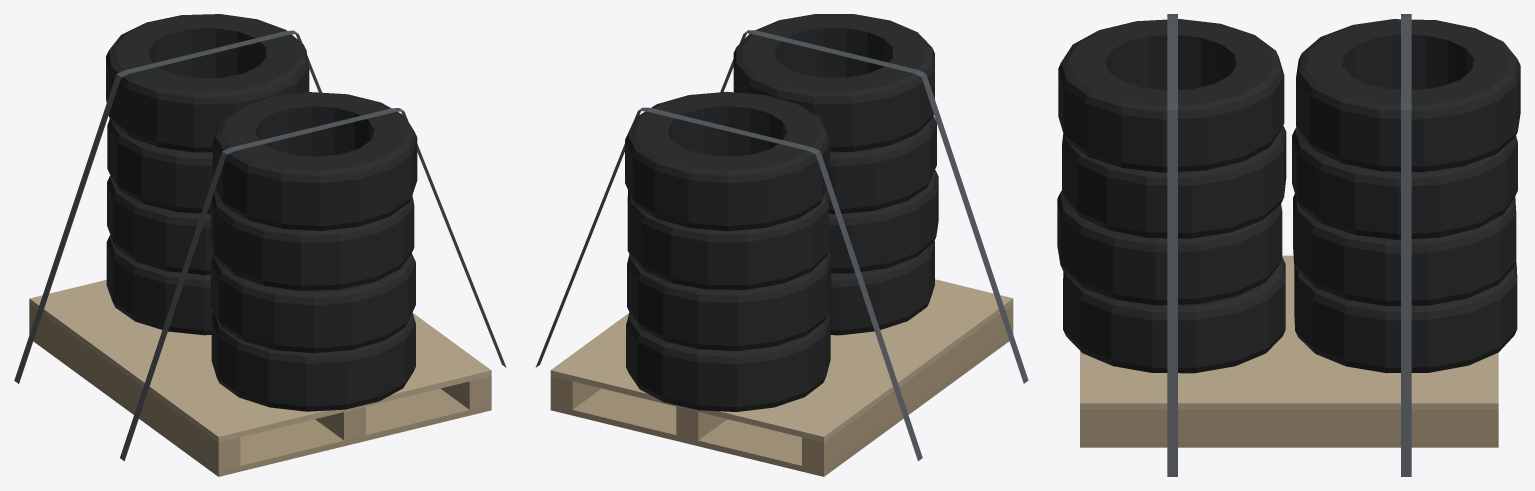
File: tire-stack.glb
3 renders of one model, left to right at view 1: azimuth 30°, elevation 25°; view 2: azimuth 150°, elevation 25°; view 3: azimuth 270°, elevation 25°, orthographic. The views are drawn at different scales.
Parts seen in each view (by area): view 1: TireStack_TyreRubber, TireStack_PalletWood, TireStack_Strap; view 2: TireStack_TyreRubber, TireStack_PalletWood, TireStack_Strap; view 3: TireStack_TyreRubber, TireStack_PalletWood, TireStack_Strap.
Boxes of the visible parts, box(x1,y1,x2,y2) form: TireStack_TyreRubber: box(106, 14, 417, 411); TireStack_PalletWood: box(29, 279, 491, 476); TireStack_Strap: box(14, 30, 506, 461); TireStack_TyreRubber: box(625, 14, 938, 411); TireStack_PalletWood: box(550, 279, 1013, 476); TireStack_Strap: box(535, 30, 1028, 460); TireStack_TyreRubber: box(1057, 19, 1520, 373); TireStack_PalletWood: box(1080, 255, 1498, 447); TireStack_Strap: box(1167, 14, 1411, 476).
Bounding box in the file's own units: 1.4 × 0.992 × 1.33.
